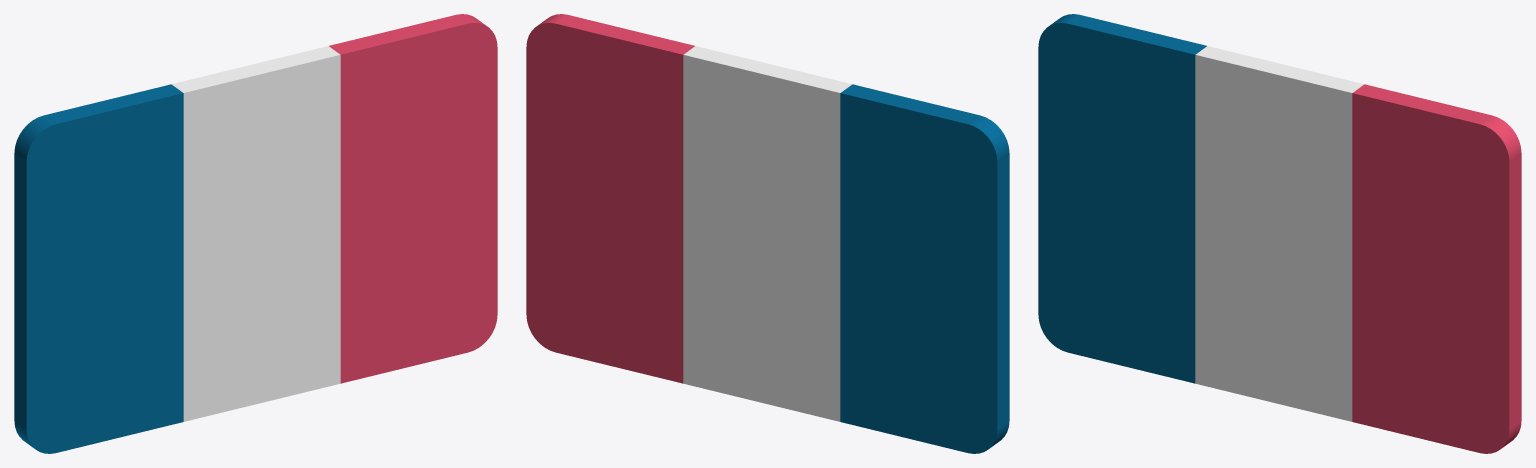
File: france-flag-3d.glb
3 views of the same model, side by side, from view 1: azimuth 30°, elevation 25°; view 2: azimuth 150°, elevation 25°; view 3: azimuth 330°, elevation 25° (orthographic).
Parts seen in each view (by area): view 1: FranceFlagPlaque; view 2: FranceFlagPlaque; view 3: FranceFlagPlaque.
Boxes of the visible parts, x1,y1,x2,y2 form: FranceFlagPlaque: [14, 14, 497, 453]; FranceFlagPlaque: [526, 14, 1009, 453]; FranceFlagPlaque: [1038, 14, 1521, 453].
Size of the model in its own units: 0.4496 by 0.3 by 0.02.
